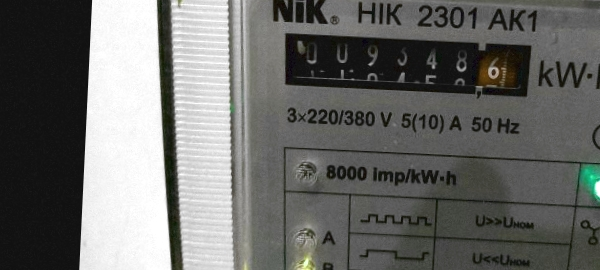0: (302, 39, 319, 66), (333, 37, 348, 64)
3: (394, 41, 409, 67)
4: (421, 41, 440, 71)
6: (483, 52, 502, 81)
8: (453, 45, 469, 74)
9: (364, 42, 379, 70)
screen: (263, 17, 545, 108)
